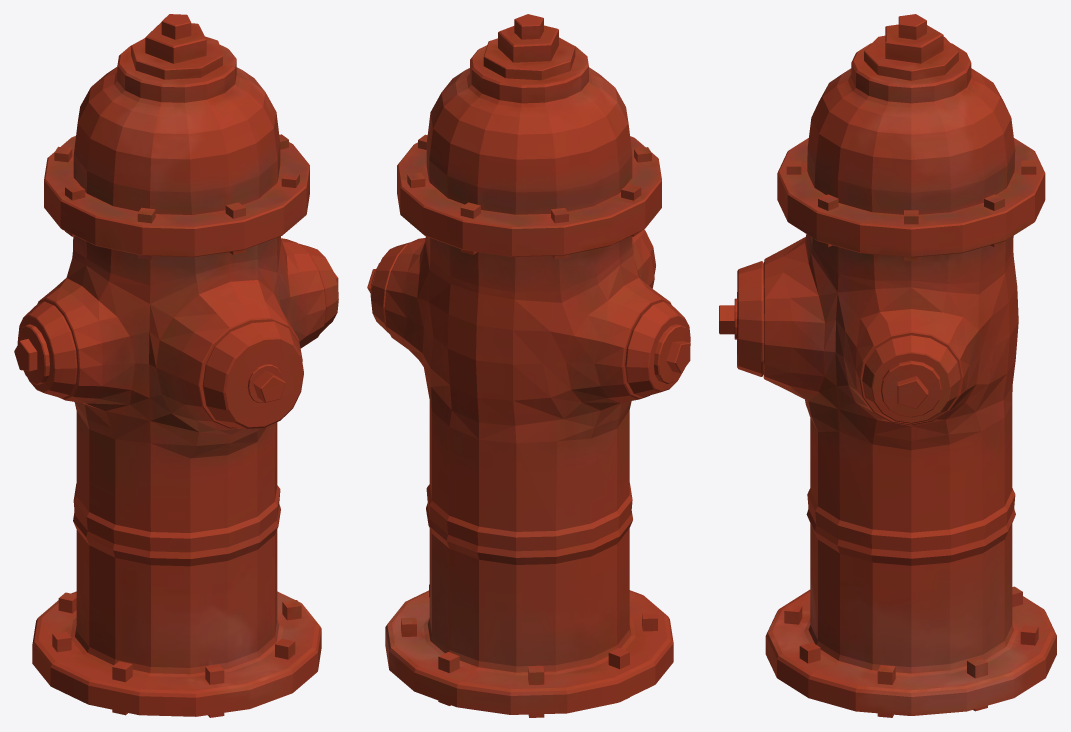
File: strProp_04.glb
3 renders of one model, left to right at view 1: azimuth 30°, elevation 25°; view 2: azimuth 150°, elevation 25°; view 3: azimuth 270°, elevation 25°, orthographic.
Visible parts, largest first — view 1: geometry_0; view 2: geometry_0; view 3: geometry_0.
Part boxes in pixels (x1,y1,x2,y2): geometry_0: [14, 14, 338, 717]; geometry_0: [367, 14, 690, 717]; geometry_0: [719, 14, 1056, 717].
Size of the model in its own units: 0.4635 by 0.9237 by 0.439.
1 material, 1 textured.
